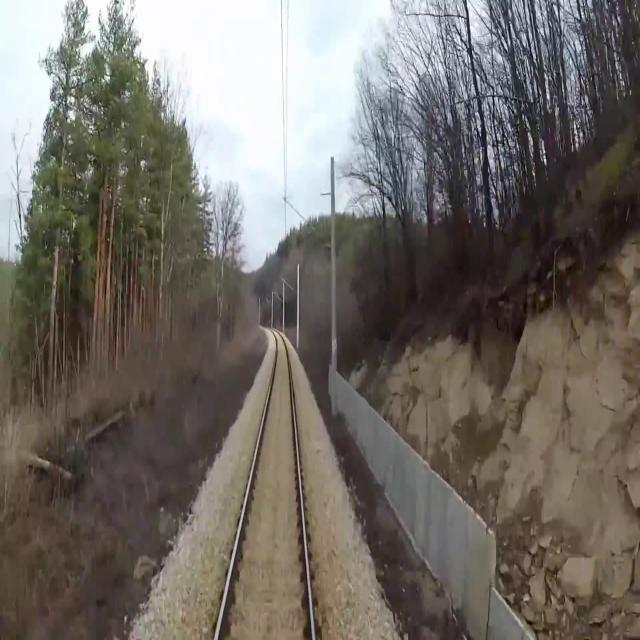rail-track: (218, 334, 310, 639)
